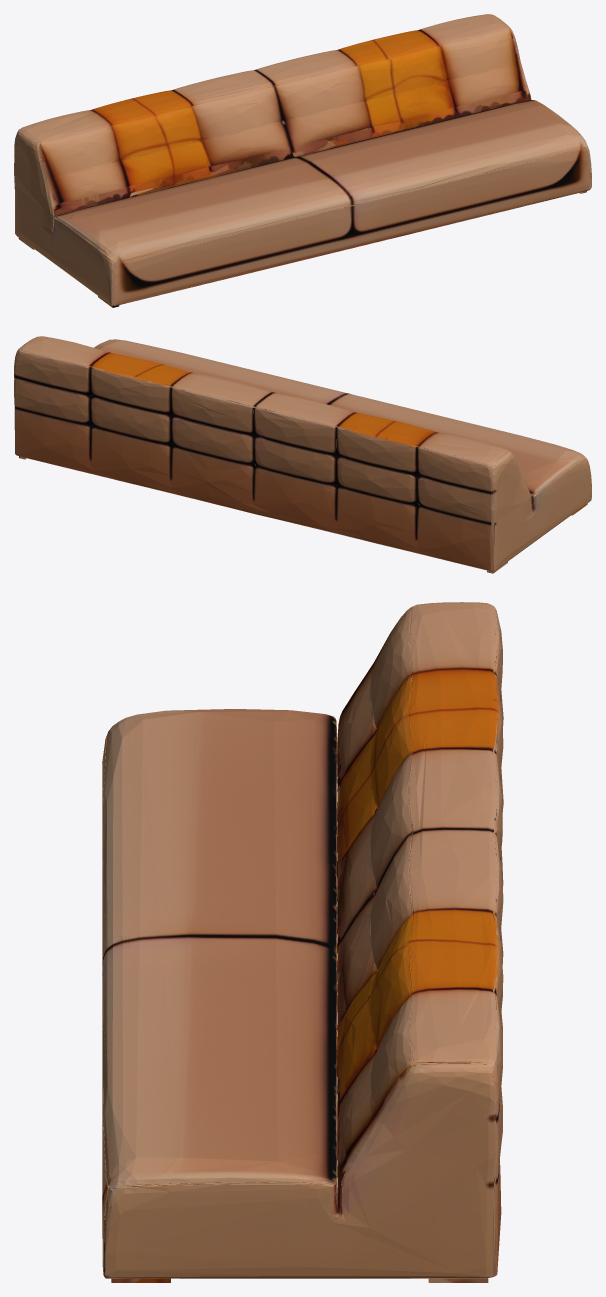
File: edited_mesh.glb
The picture shows the model from 3 angles, top to bottom: view 1: azimuth 30°, elevation 25°; view 2: azimuth 150°, elevation 25°; view 3: azimuth 270°, elevation 25°; orthographic projection. The views are drawn at different scales.
Parts seen in each view (by area): view 1: solid_001_wire; view 2: solid_001_wire; view 3: solid_001_wire.
Part boxes in pixels (x1,y1,x2,y2): solid_001_wire: [14, 14, 591, 307]; solid_001_wire: [14, 336, 591, 573]; solid_001_wire: [102, 602, 503, 1282].
Size of the model in its own units: 2 by 0.4446 by 0.7213.
1 material, 1 textured.
